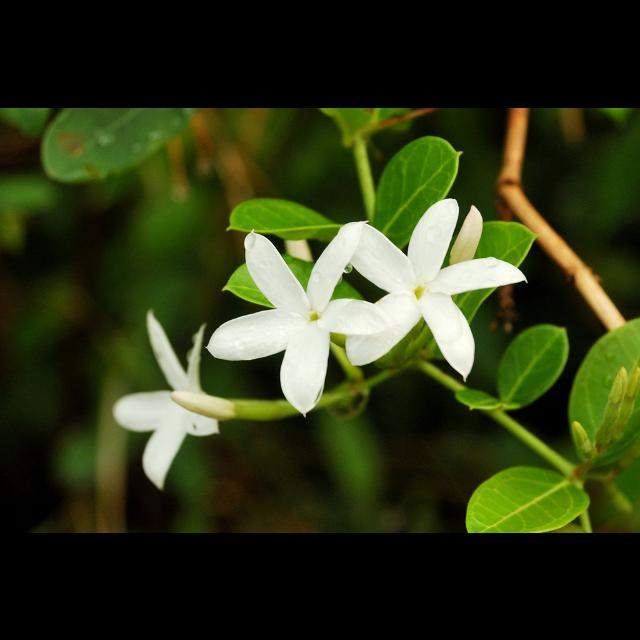Flower: (228, 195, 478, 412), (106, 309, 224, 496)
